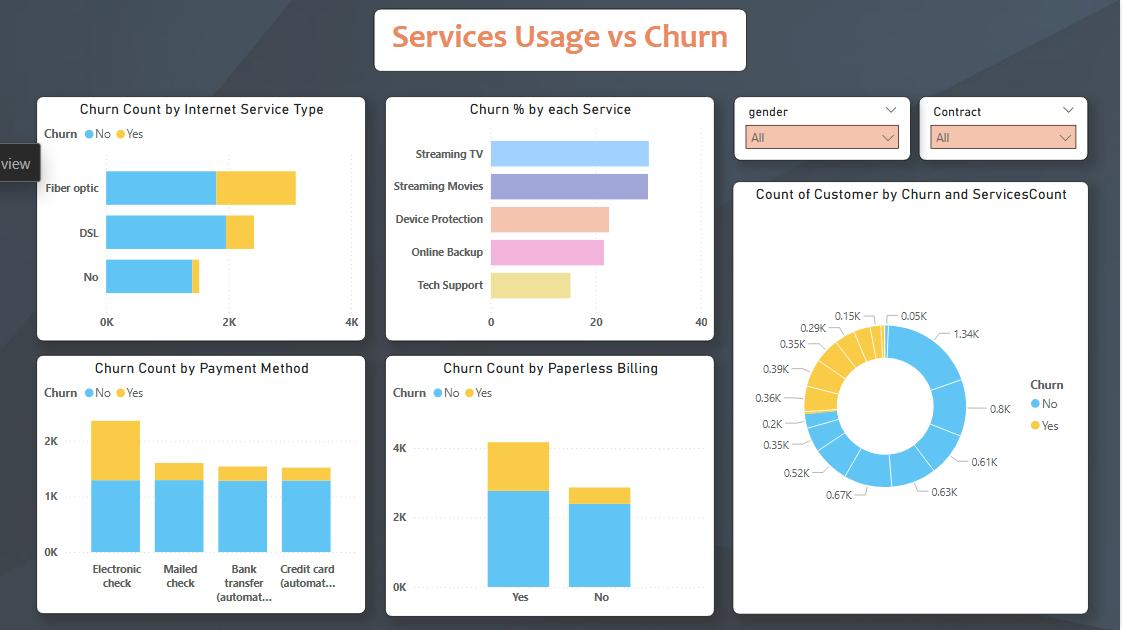

The dashboard page shown, as its layout file describes it:
{"tool":"powerbi","page":{"name":"Page 3","canvas":[1280,720],"ordinal":2},"visuals":[{"type":"textbox","box":[427.6,10.1,426.2,72.2],"z":0},{"type":"barChart","title":"Churn Count by Internet Service Type","fields":{"Category":["telecom_churn_cleaned.InternetService"],"Series":["telecom_churn_cleaned.Churn"],"Y":["CountNonNull(telecom_churn_cleaned.customerID)"]},"box":[41.9,109.8,377.1,280.3],"z":1},{"type":"clusteredBarChart","title":"Churn % by each Service","fields":{"Y":["Table.Churn % Value"],"Category":["ServicesList.Service"]},"box":[440.6,109.8,377.1,280.3],"z":2},{"type":"donutChart","title":"Count of Customer by Churn and ServicesCount","fields":{"Y":["CountNonNull(telecom_churn_cleaned.customerID)"],"Category":["telecom_churn_cleaned.Churn"],"Series":["telecom_churn_cleaned.ServicesCount"]},"box":[836.5,206.6,407.4,495.5],"z":3},{"type":"slicer","fields":{"Values":["telecom_churn_cleaned.Contract"]},"box":[1050.3,109.8,193.6,73.7],"z":4},{"type":"slicer","fields":{"Values":["telecom_churn_cleaned.gender"]},"box":[837.9,109.8,202.3,73.7],"z":5},{"type":"columnChart","title":"Churn Count by Payment Method","fields":{"Category":["telecom_churn_cleaned.PaymentMethod"],"Y":["CountNonNull(telecom_churn_cleaned.customerID)"],"Series":["telecom_churn_cleaned.Churn"]},"box":[41.9,406,377.1,296.2],"z":7},{"type":"columnChart","title":"Churn Count by Paperless Billing","fields":{"Category":["telecom_churn_cleaned.PaperlessBilling"],"Y":["CountNonNull(telecom_churn_cleaned.customerID)"],"Series":["telecom_churn_cleaned.Churn"]},"box":[440.6,406,377.1,299.1],"z":8}]}

Visuals, with their boxes in screenshot pixels (x1, y1, x2, y2):
textbox: 373 12 741 74
"Churn Count by Internet Service Type" barChart: 39 98 365 340
"Churn % by each Service" clusteredBarChart: 384 98 710 340
"Count of Customer by Churn and ServicesCount" donutChart: 726 182 1078 610
slicer - telecom_churn_cleaned.Contract: 911 98 1078 162
slicer - telecom_churn_cleaned.gender: 727 98 902 162
"Churn Count by Payment Method" columnChart: 39 354 365 610
"Churn Count by Paperless Billing" columnChart: 384 354 710 612
